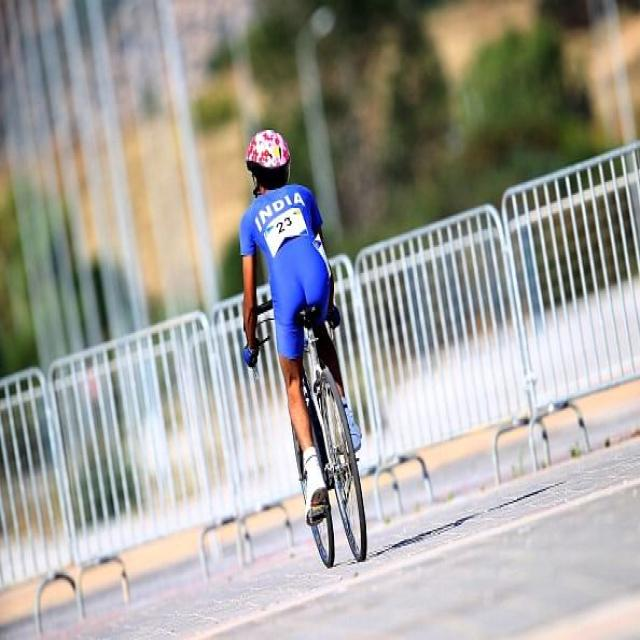bicycle: (240, 130, 366, 564)
